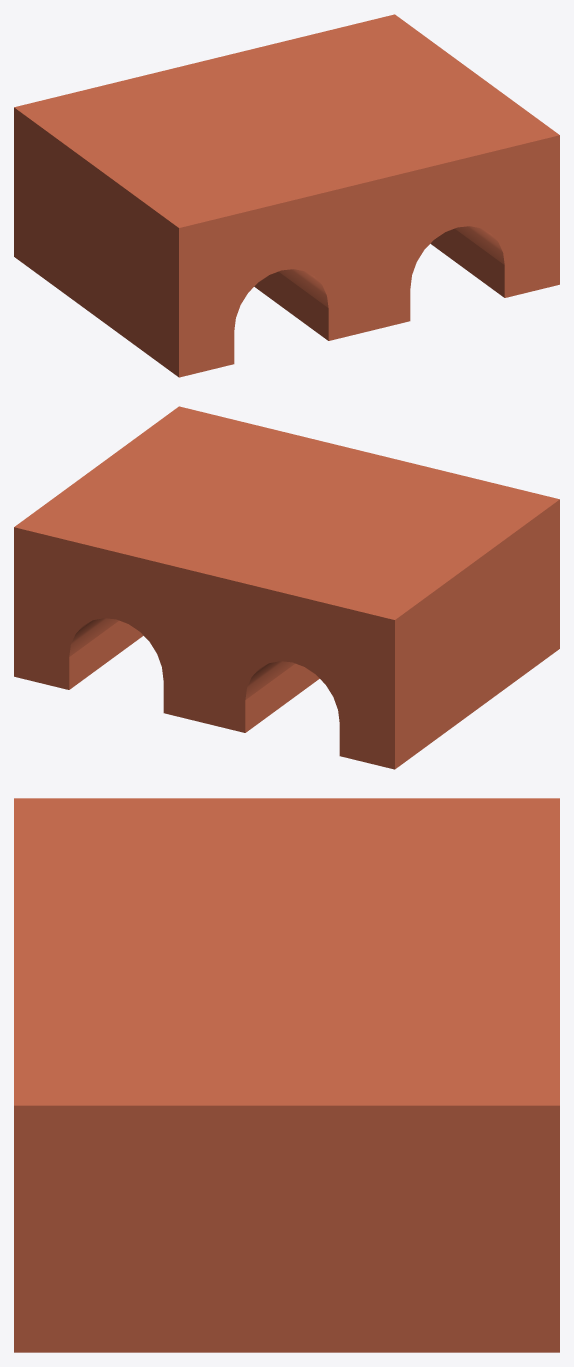
File: Course.fbx
The picture shows the model from 3 angles, top to bottom: view 1: azimuth 30°, elevation 25°; view 2: azimuth 150°, elevation 25°; view 3: azimuth 270°, elevation 25°; orthographic projection. The views are drawn at different scales.
Visible parts, largest first — view 1: building_doorDouble; view 2: building_doorDouble; view 3: building_doorDouble.
Part boxes in pixels (x1,y1,x2,y2): building_doorDouble: [14, 14, 559, 377]; building_doorDouble: [14, 406, 559, 769]; building_doorDouble: [14, 798, 559, 1352].
Bounding box in the file's own units: 16 × 6 × 12.01.
